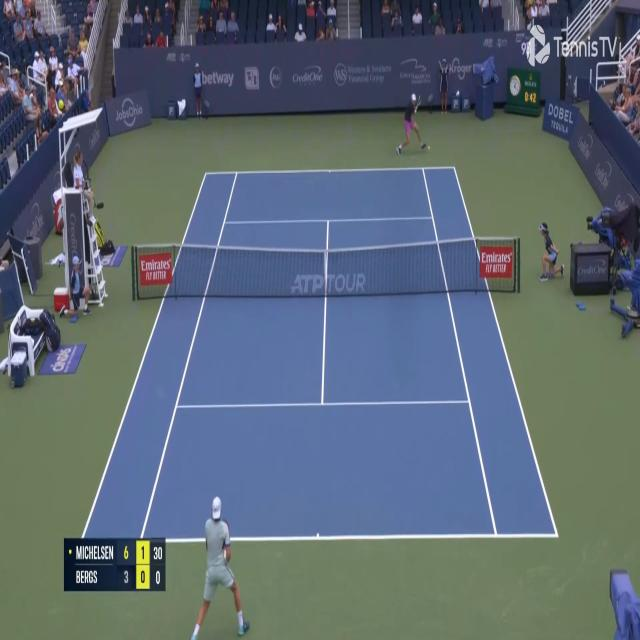tennis-player: (187, 492, 250, 640), (396, 93, 429, 158)
